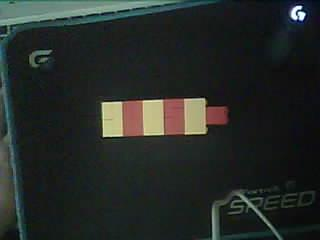lego: (101, 98, 229, 137)
